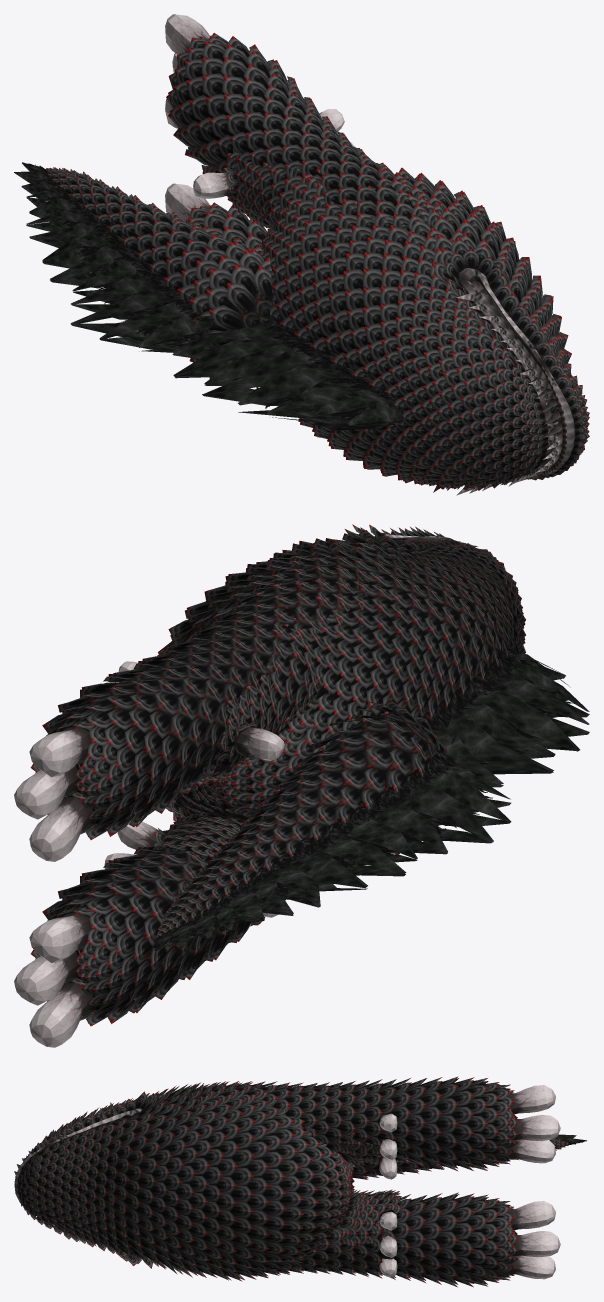
Rendered from BigBossA.obj.
3 views of the same model, one above another, from view 1: azimuth 30°, elevation 25°; view 2: azimuth 150°, elevation 25°; view 3: azimuth 270°, elevation 25° (orthographic). The views are drawn at different scales.
Parts seen in each view (by area): view 1: rdmobj00, rdmobj06, rdmobj05, rdmobj04, rdmobj01, rdmobj02; view 2: rdmobj00, rdmobj02, rdmobj06, rdmobj01, rdmobj05; view 3: rdmobj00, rdmobj01, rdmobj02, rdmobj04.
Part boxes in pixels (x1,y1,x2,y2): rdmobj00: [45, 33, 589, 492]; rdmobj06: [14, 162, 404, 430]; rdmobj05: [25, 163, 406, 429]; rdmobj04: [456, 268, 574, 495]; rdmobj01: [165, 14, 354, 222]; rdmobj02: [87, 77, 578, 471]; rdmobj00: [30, 524, 525, 1026]; rdmobj02: [59, 544, 516, 1010]; rdmobj06: [154, 652, 589, 951]; rdmobj01: [14, 661, 284, 1047]; rdmobj05: [153, 643, 574, 948]; rdmobj00: [17, 1076, 568, 1287]; rdmobj01: [379, 1085, 560, 1279]; rdmobj02: [17, 1084, 568, 1279]; rdmobj04: [14, 1102, 141, 1252].
Size of the model in its own units: 2284 by 1755 by 4491.
